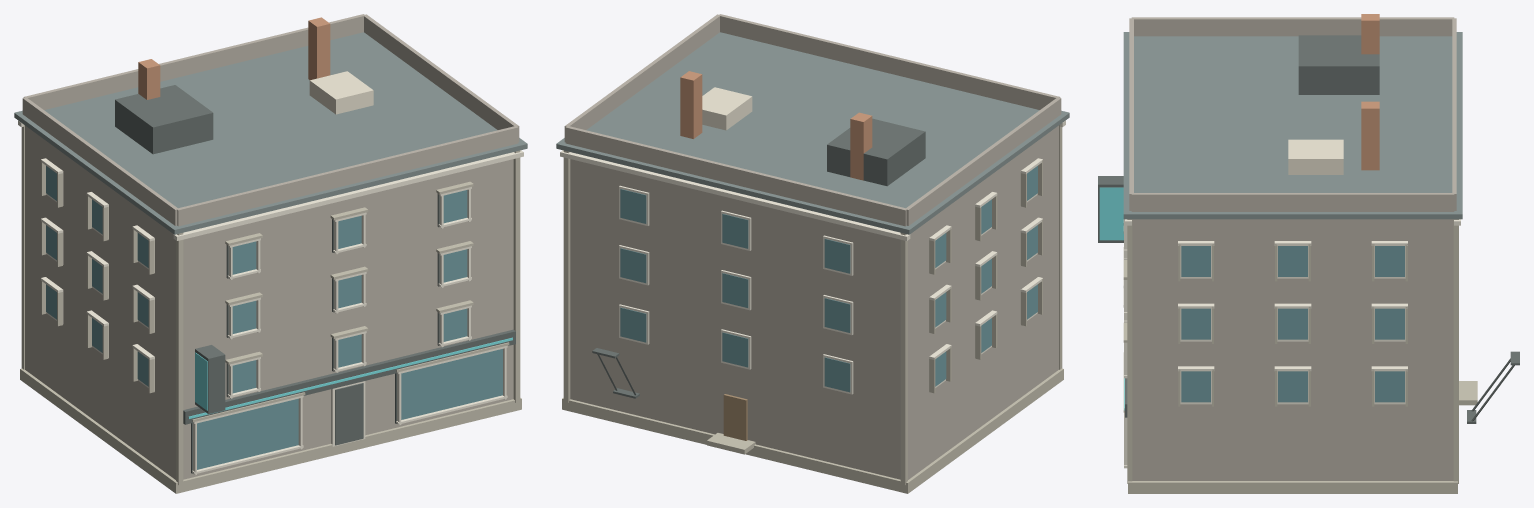
3 views of the same model, side by side, from view 1: azimuth 30°, elevation 25°; view 2: azimuth 150°, elevation 25°; view 3: azimuth 270°, elevation 25° (orthographic). The views are drawn at different scales.
Bounding box in the file's own units: 18.7 × 16.44 × 18.3.
